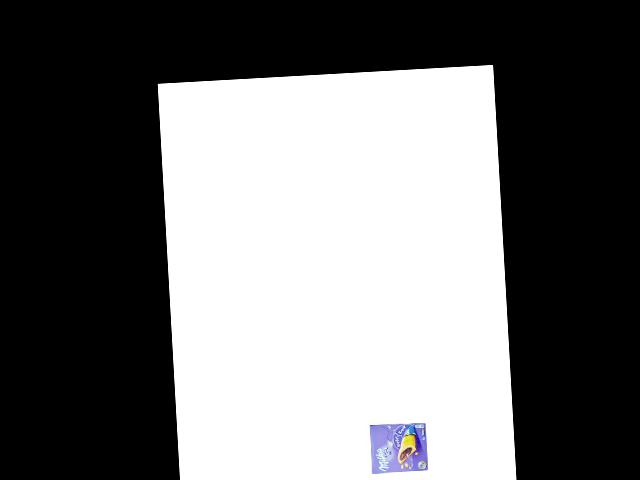chocolate: (365, 419, 432, 477)
